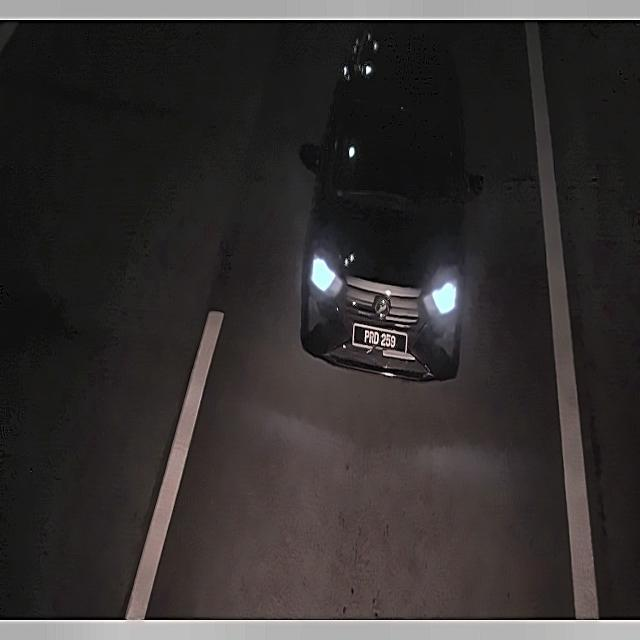car: (349, 312, 414, 366)
